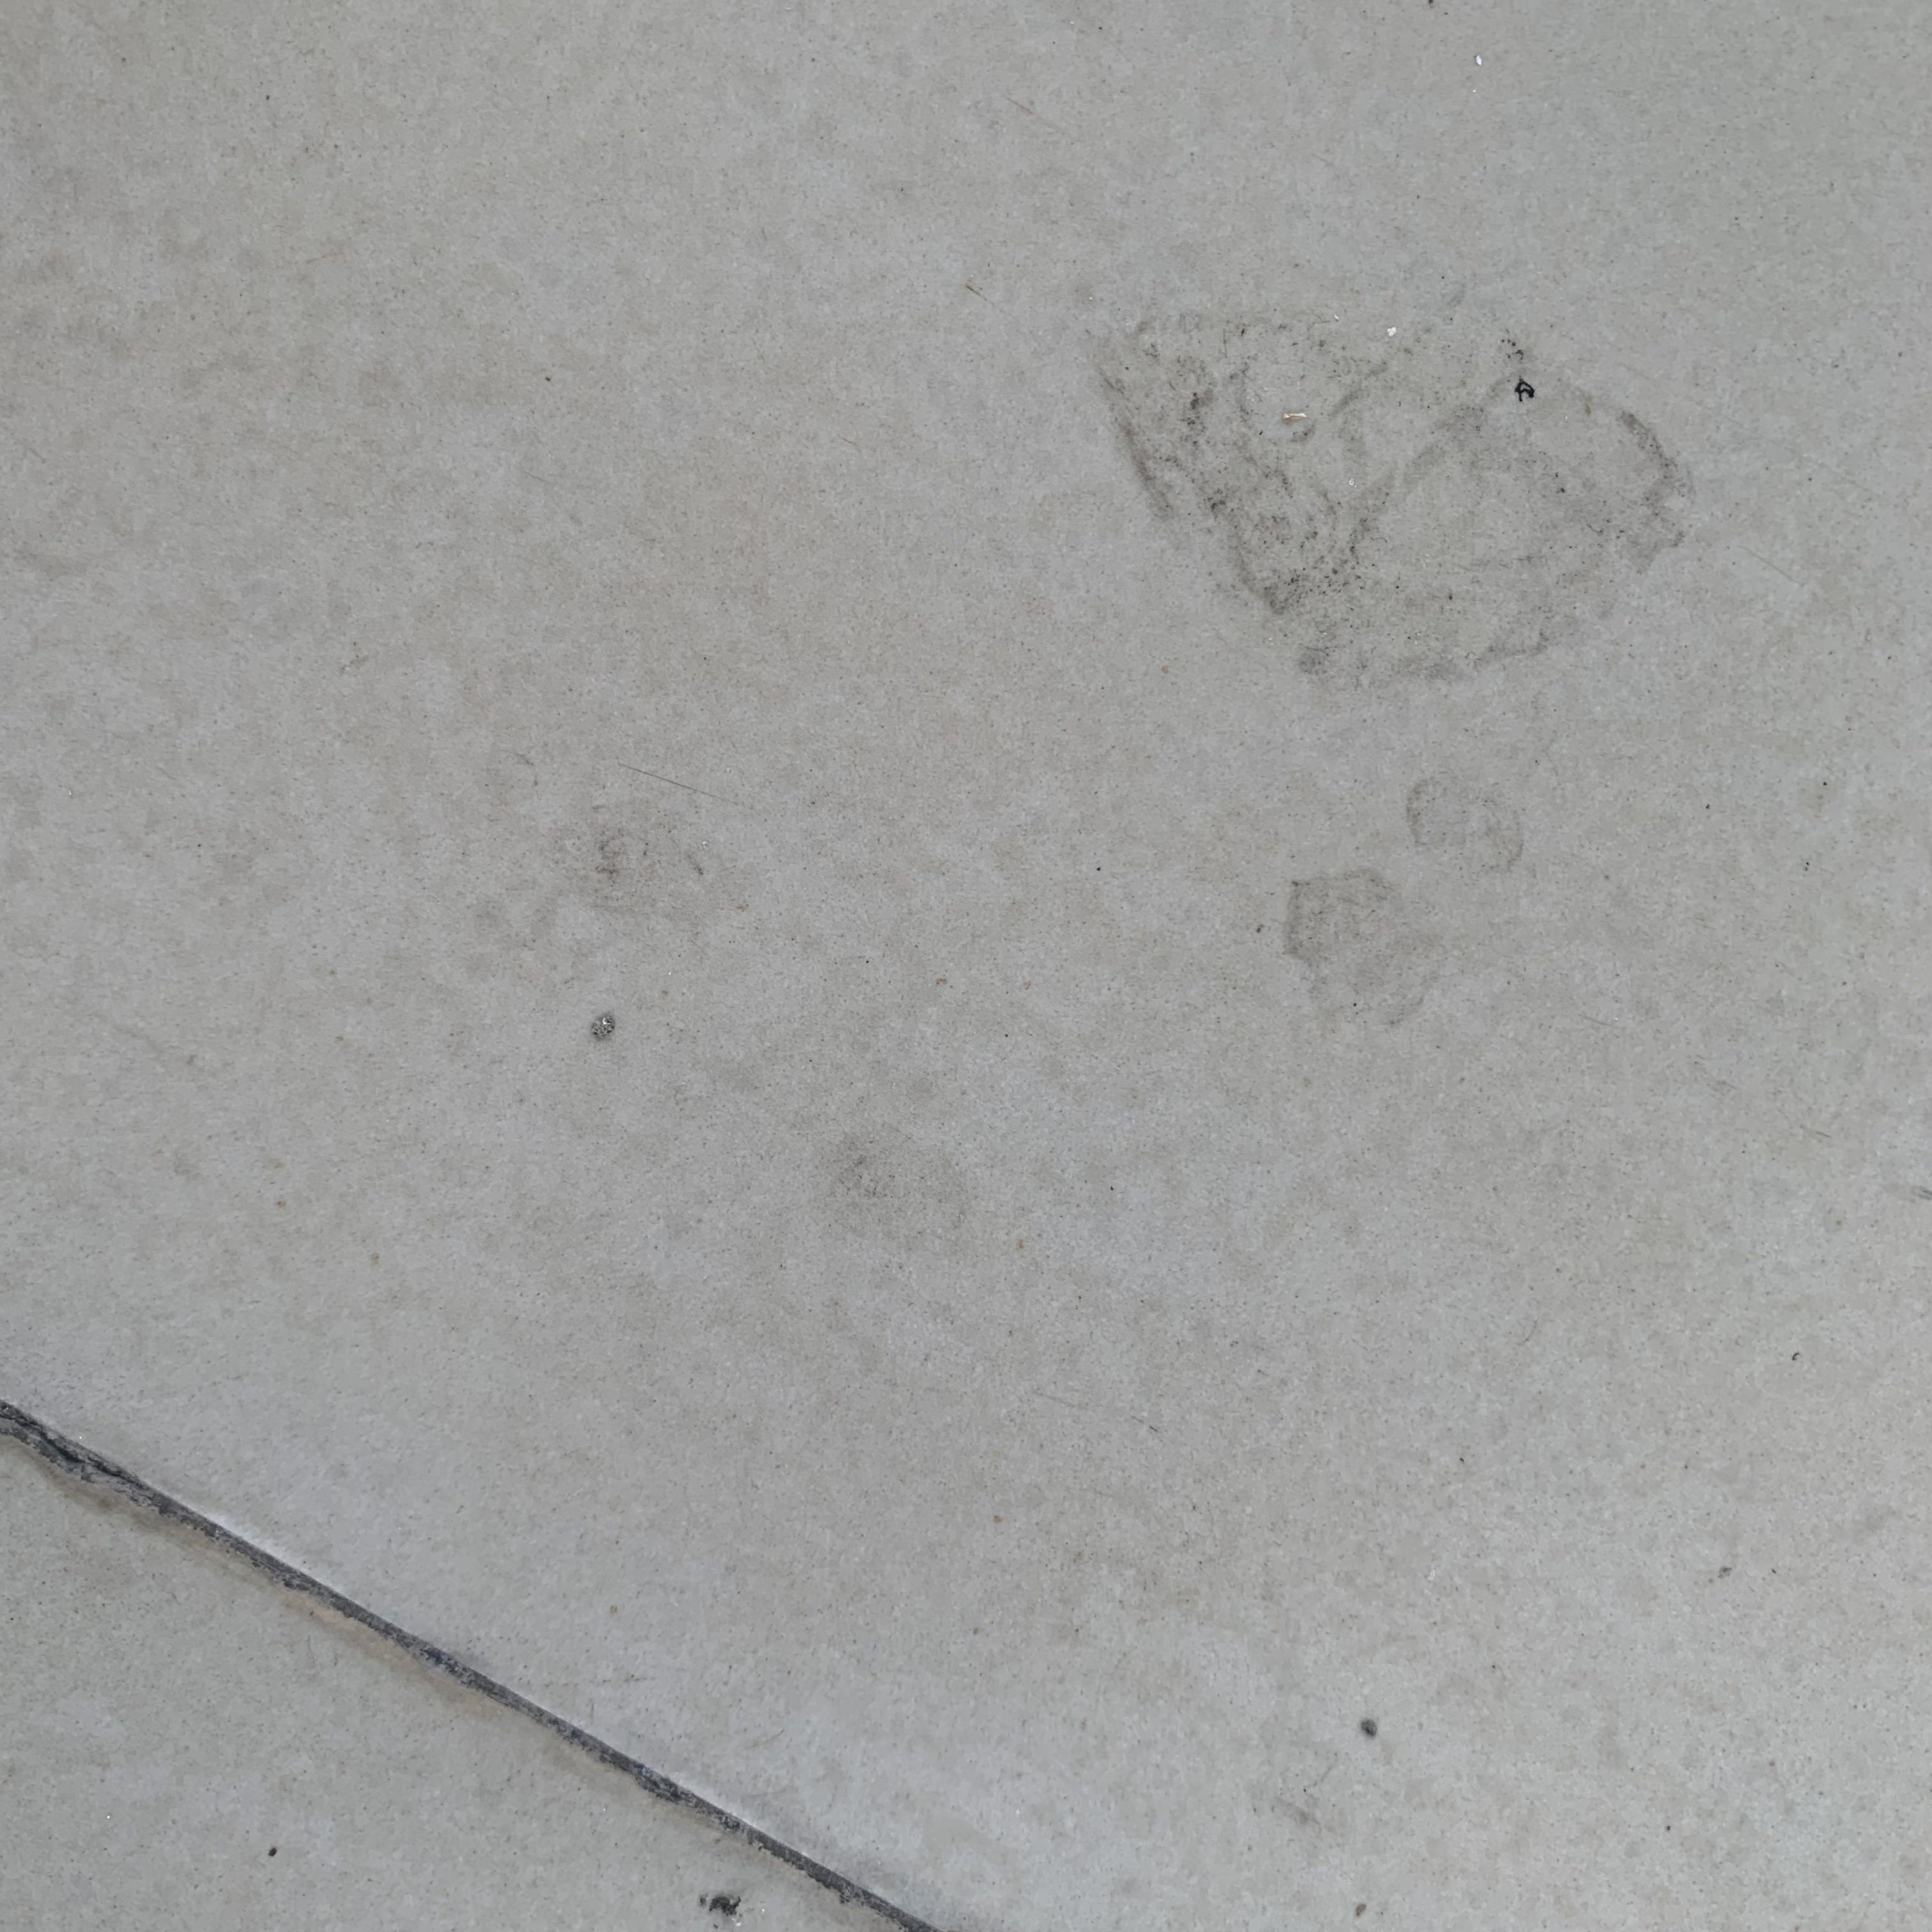grey spot: (1086, 311, 1695, 685), (1283, 872, 1444, 1028), (1408, 777, 1525, 874), (699, 1893, 741, 1918), (591, 1012, 616, 1040), (1362, 1720, 1376, 1737)
